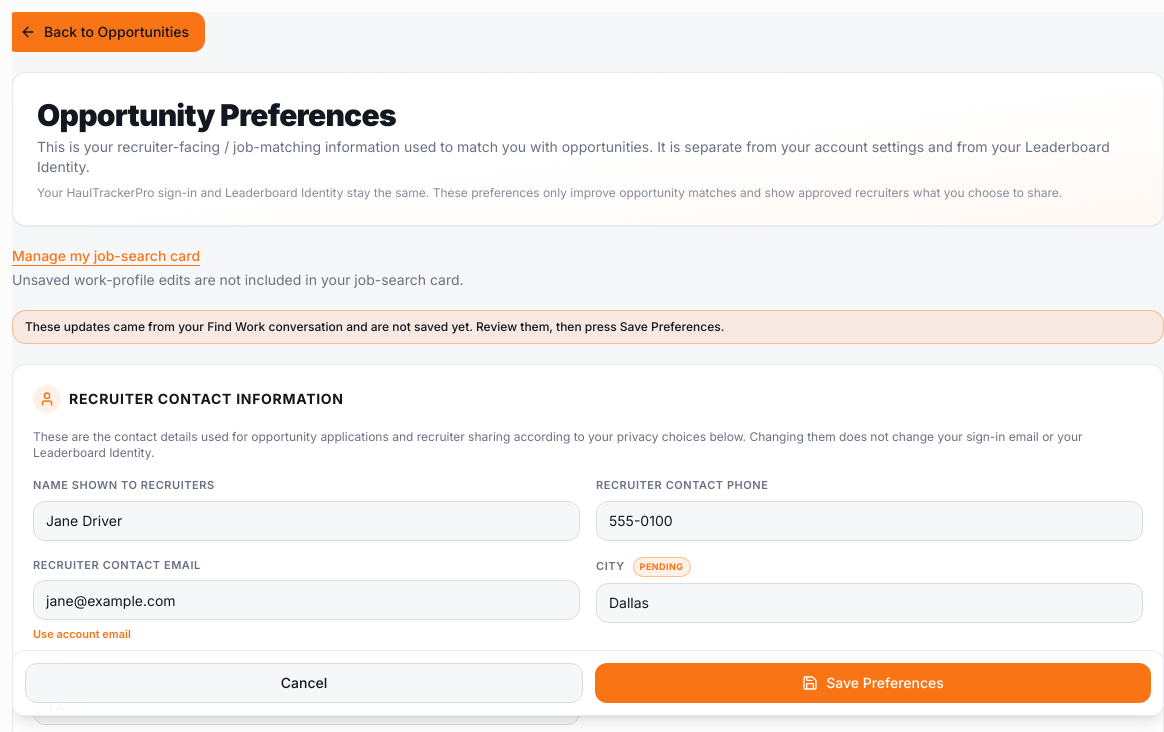
Test case: HP-4B2 pending review in the profile form › saves the reviewed values through the existing save path and clears pending on success
The image size is (1164, 732).
Click the button "Save Preferences".
click(873, 683)  # box [595,663,1151,703]
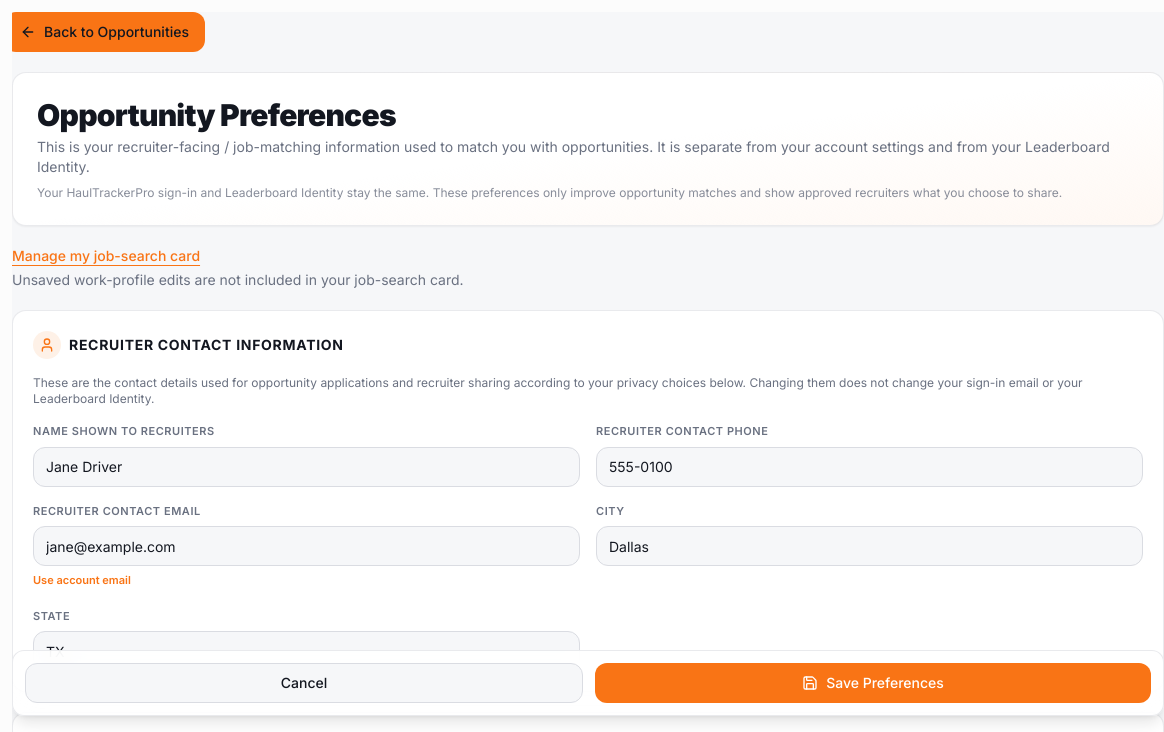
expect the text with test id "driver-profile-pending-review-note" is gone: met
